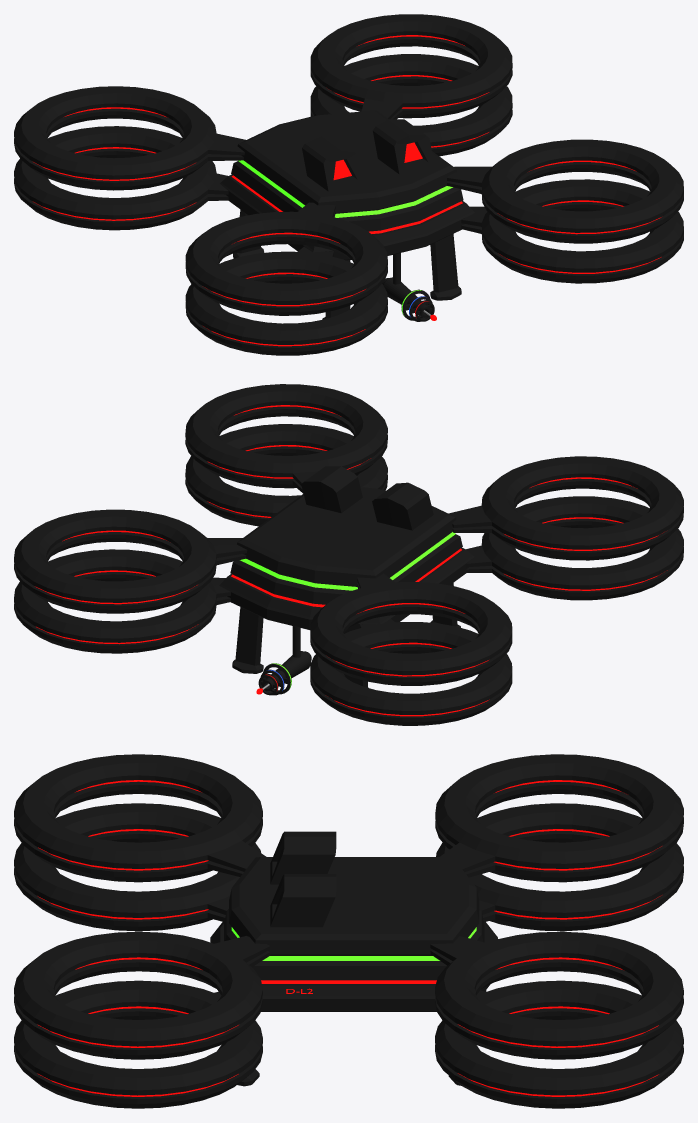
File: drone_laser_2.glb
3 renders of one model, top to bottom at view 1: azimuth 30°, elevation 25°; view 2: azimuth 150°, elevation 25°; view 3: azimuth 270°, elevation 25°, orthographic. The views are drawn at different scales.
Parts seen in each view (by area): view 1: Drone_Laser_2, Cylinder.418, Cylinder.421, Cylinder.415, Cylinder.424, Cylinder.396, Cylinder.399, Cylinder.393, Cylinder.402, Cube.131, Cylinder.406, Cube.129; view 2: Drone_Laser_2, Cylinder.415, Cylinder.424, Cylinder.421, Cylinder.418, Cylinder.393, Cylinder.402, Cylinder.399, Cylinder.396, Cube.131, Cylinder.428; view 3: Drone_Laser_2, Cylinder.418, Cylinder.424, Cylinder.415, Cylinder.421, Cylinder.402, Cylinder.396, Cylinder.393, Cylinder.399, Cube.131, Cube.130.
Part boxes in pixels (bbox=[...]): Drone_Laser_2: bbox=[220, 110, 474, 319]; Cylinder.418: bbox=[447, 139, 683, 243]; Cylinder.421: bbox=[14, 86, 245, 190]; Cylinder.415: bbox=[185, 202, 387, 315]; Cylinder.424: bbox=[310, 14, 512, 119]; Cylinder.396: bbox=[461, 179, 683, 283]; Cylinder.399: bbox=[14, 126, 228, 230]; Cylinder.393: bbox=[185, 246, 387, 355]; Cylinder.402: bbox=[310, 54, 512, 156]; Cube.131: bbox=[238, 160, 452, 217]; Cylinder.406: bbox=[382, 277, 430, 317]; Cube.129: bbox=[333, 142, 422, 179]; Drone_Laser_2: bbox=[219, 466, 474, 687]; Cylinder.415: bbox=[448, 456, 683, 560]; Cylinder.424: bbox=[14, 509, 247, 613]; Cylinder.421: bbox=[310, 573, 512, 685]; Cylinder.418: bbox=[185, 384, 387, 493]; Cylinder.393: bbox=[466, 496, 683, 600]; Cylinder.402: bbox=[14, 549, 230, 653]; Cylinder.399: bbox=[310, 619, 512, 725]; Cylinder.396: bbox=[185, 424, 387, 526]; Cube.131: bbox=[240, 532, 455, 590]; Cylinder.428: bbox=[262, 651, 311, 690]; Drone_Laser_2: bbox=[210, 831, 497, 1086]; Cylinder.418: bbox=[14, 931, 270, 1059]; Cylinder.424: bbox=[430, 931, 683, 1059]; Cylinder.415: bbox=[14, 754, 266, 882]; Cylinder.421: bbox=[435, 754, 683, 882]; Cylinder.402: bbox=[435, 980, 683, 1108]; Cylinder.396: bbox=[14, 980, 262, 1108]; Cylinder.393: bbox=[14, 803, 260, 931]; Cylinder.399: bbox=[436, 803, 683, 931]; Cube.131: bbox=[231, 927, 476, 960]; Cube.130: bbox=[261, 980, 436, 983].
Bounding box in the file's own units: 3.56 × 1.11 × 3.56.
